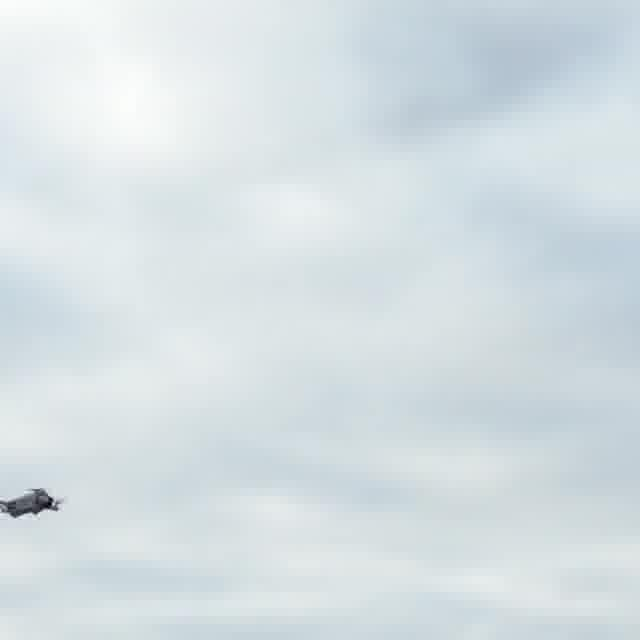Drohne: (0, 488, 64, 518)
